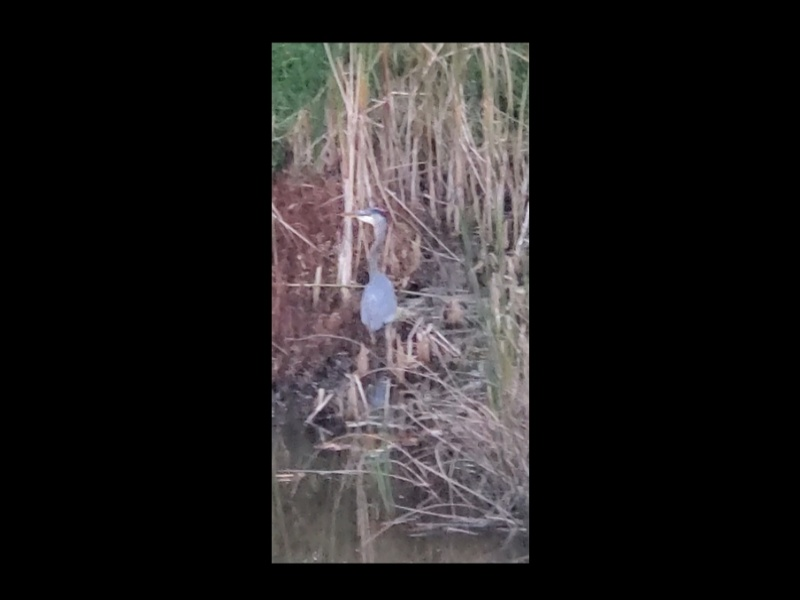heron: (339, 205, 402, 351)
